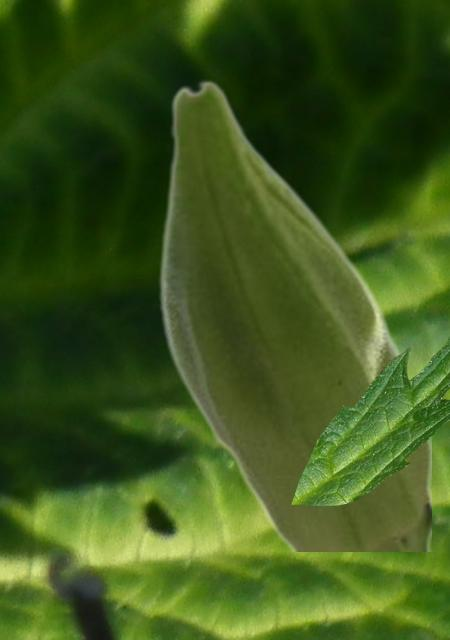okra: (158, 79, 430, 550)
